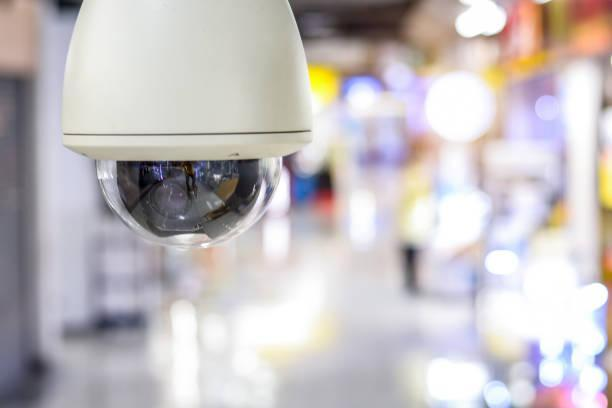camera: (44, 0, 334, 286)
